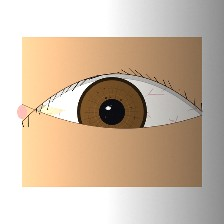pterygium_lesion: (22, 93, 71, 131)
